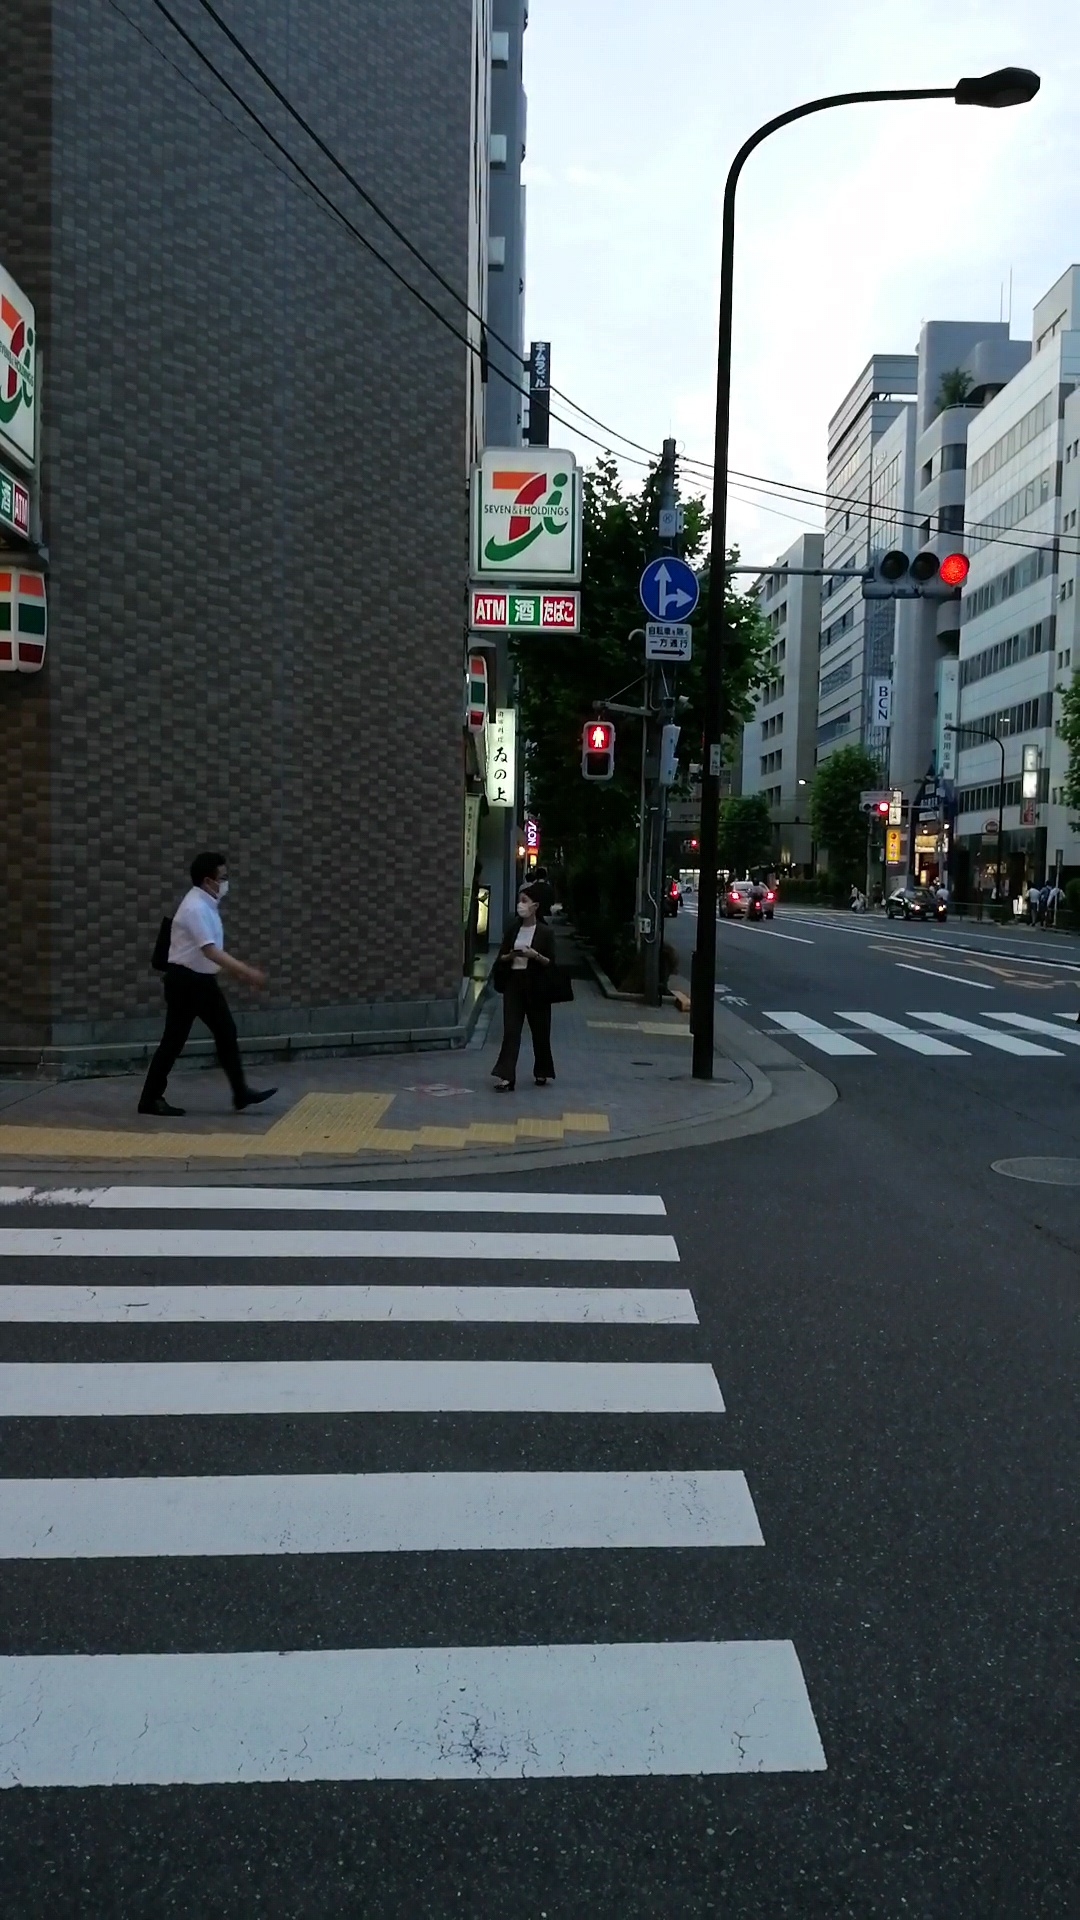red: (582, 720, 615, 781)
